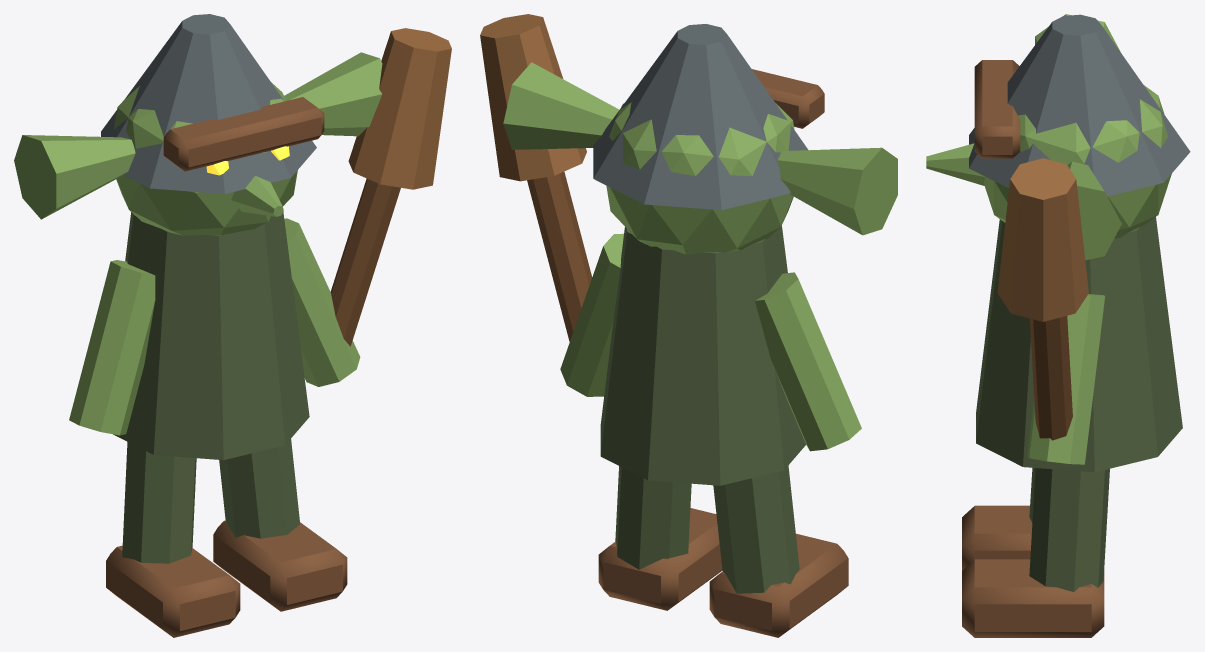
Rendered from goblin.glb.
3 views of the same model, side by side, from view 1: azimuth 30°, elevation 25°; view 2: azimuth 150°, elevation 25°; view 3: azimuth 270°, elevation 25° (orthographic). The views are drawn at different scales.
Parts seen in each view (by area): view 1: GoblinTorso, GoblinHelmet, GoblinClubHead, GoblinArm_-1, GoblinBoot_-1, GoblinBoot_1, GoblinLeg_-1, GoblinHead, GoblinEarL, GoblinHelmetBand, GoblinLeg_1, GoblinArm_1 (+3 smaller); view 2: GoblinTorso, GoblinHelmet, GoblinHead, GoblinArm_-1, GoblinLeg_-1, GoblinEarL, GoblinClubHead, GoblinBoot_-1, GoblinEarR, GoblinBoot_1, GoblinLeg_1, GoblinArm_1 (+2 smaller); view 3: GoblinTorso, GoblinHelmet, GoblinClubHead, GoblinBoot_1, GoblinLeg_1, GoblinHead, GoblinArm_1, GoblinClubHandle, GoblinHelmetBand, GoblinBoot_-1, GoblinEarR, GoblinNose.
Boxes of the visible parts, <box> form: GoblinTorso: <box>113,212,309,460</box>; GoblinHelmet: <box>101,14,316,193</box>; GoblinClubHead: <box>348,28,451,189</box>; GoblinArm_-1: <box>69,260,155,435</box>; GoblinBoot_-1: <box>106,545,240,637</box>; GoblinBoot_1: <box>213,520,347,611</box>; GoblinLeg_-1: <box>122,442,196,563</box>; GoblinHead: <box>114,82,297,235</box>; GoblinEarL: <box>14,135,135,219</box>; GoblinHelmetBand: <box>163,97,324,171</box>; GoblinLeg_1: <box>219,439,300,538</box>; GoblinArm_1: <box>284,218,360,386</box>; GoblinTorso: <box>600,225,805,485</box>; GoblinHelmet: <box>593,24,808,210</box>; GoblinHead: <box>606,102,794,254</box>; GoblinArm_-1: <box>755,272,861,451</box>; GoblinLeg_-1: <box>713,465,799,593</box>; GoblinEarL: <box>777,147,897,235</box>; GoblinClubHead: <box>480,14,586,181</box>; GoblinBoot_-1: <box>709,533,848,637</box>; GoblinEarR: <box>503,62,619,149</box>; GoblinBoot_1: <box>598,508,722,610</box>; GoblinLeg_1: <box>615,466,691,569</box>; GoblinArm_1: <box>560,233,623,396</box>; GoblinTorso: <box>976,217,1182,472</box>; GoblinHelmet: <box>969,14,1190,196</box>; GoblinClubHead: <box>997,158,1088,321</box>; GoblinBoot_1: <box>962,559,1104,637</box>; GoblinLeg_1: <box>1029,468,1109,591</box>; GoblinHead: <box>984,85,1171,238</box>; GoblinArm_1: <box>1027,294,1104,464</box>; GoblinClubHandle: <box>1030,316,1072,440</box>; GoblinHelmetBand: <box>974,60,1020,158</box>; GoblinBoot_-1: <box>962,505,1032,570</box>; GoblinEarR: <box>1067,161,1121,260</box>; GoblinNose: <box>926,143,984,185</box>.
Bounding box in the file's own units: 1.85 × 2.49 × 1.04.
